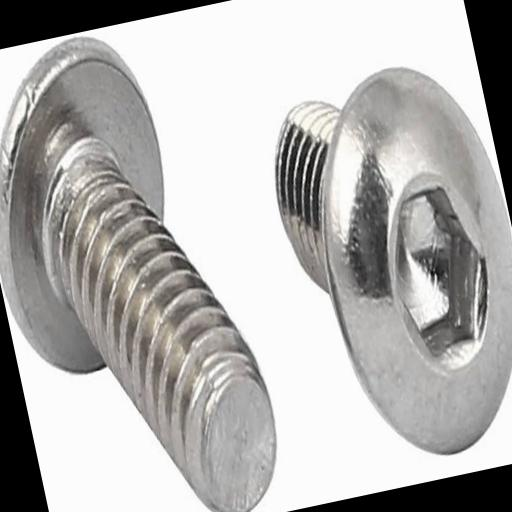Hex-Allen: (285, 51, 512, 472)
